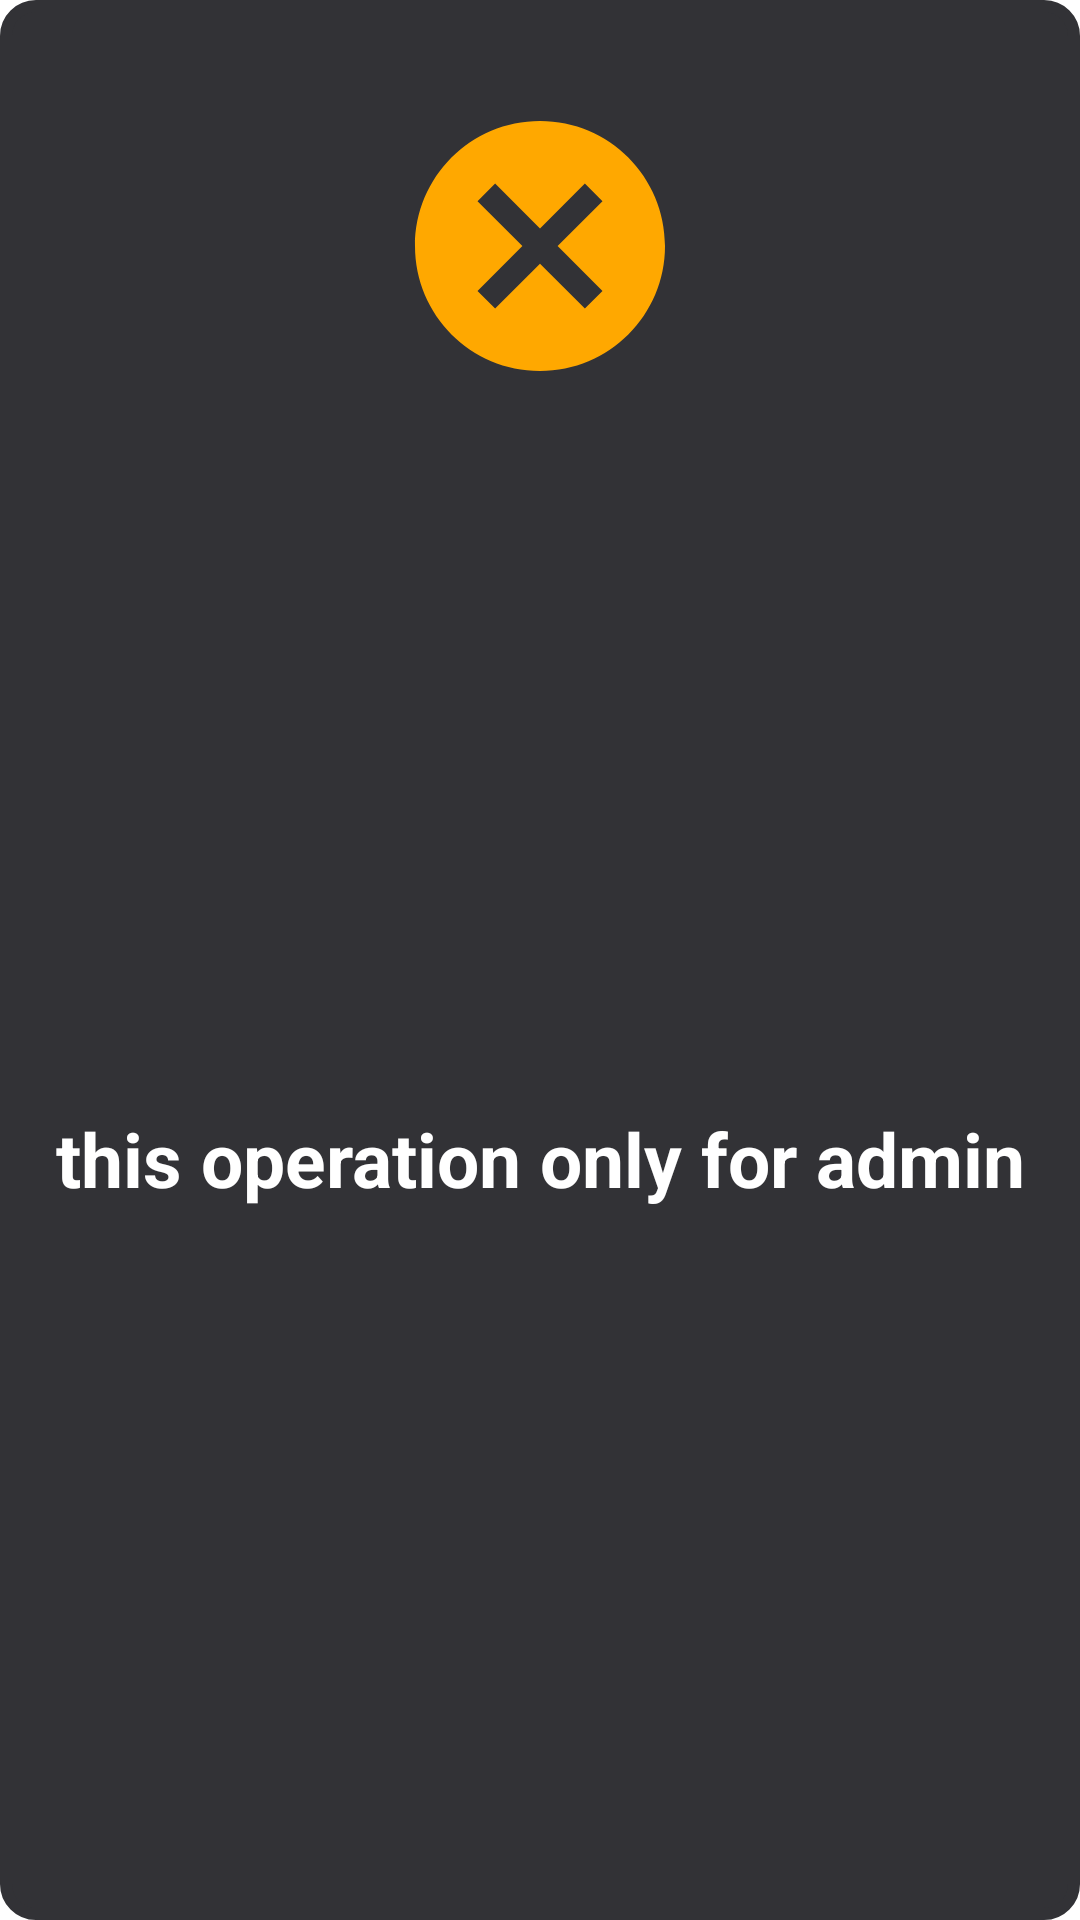

Screen size 1080x1920. Icon name, then its center in pixels as (x,y):
cancel: (540,246)
